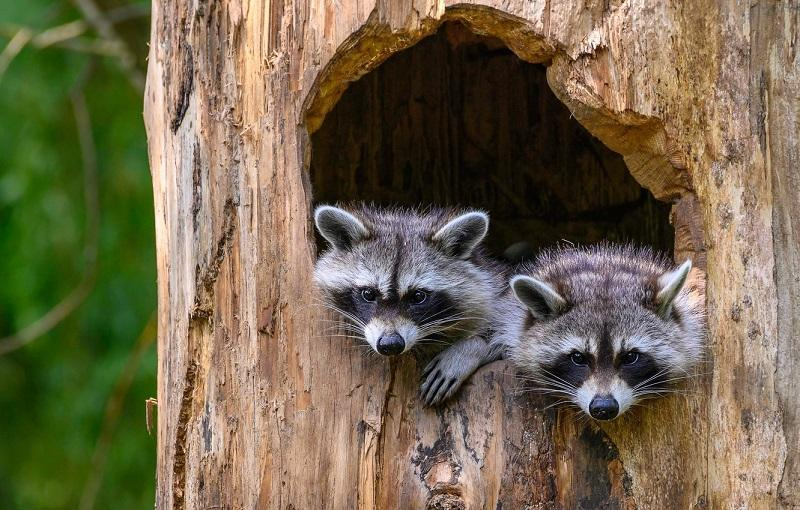raccoon: (310, 197, 717, 425)
